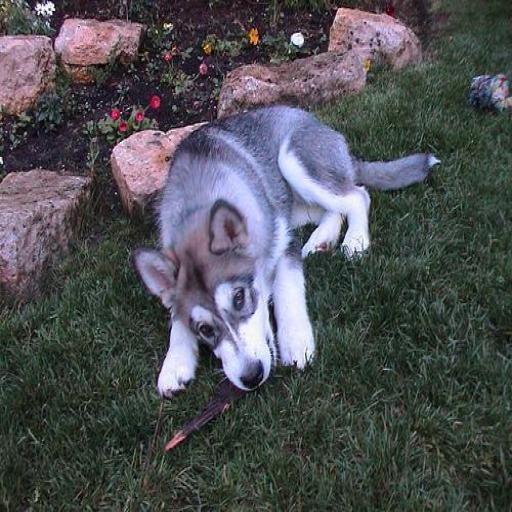dog_face: (142, 217, 274, 396)
